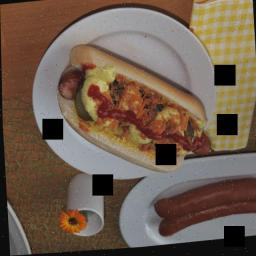hotdog: (58, 39, 214, 173)
